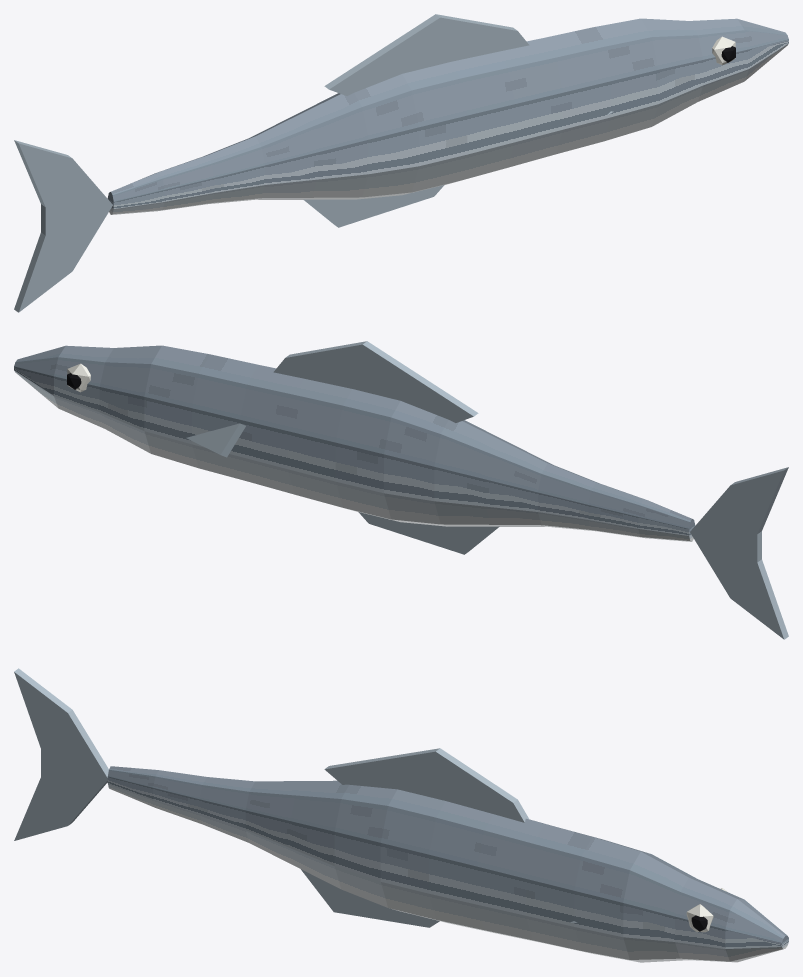
The model's file is bonefish.glb.
The picture shows the model from 3 angles, top to bottom: view 1: azimuth 30°, elevation 25°; view 2: azimuth 150°, elevation 25°; view 3: azimuth 330°, elevation 25°; orthographic projection.
Visible parts, largest first — view 1: fish_bonefish; view 2: fish_bonefish; view 3: fish_bonefish.
Part boxes in pixels (x1,y1,x2,y2): fish_bonefish: (14,14,788,312); fish_bonefish: (14,341,788,639); fish_bonefish: (14,668,788,962).
Bounding box in the file's own units: 1.14 × 0.2725 × 0.1267.
4 materials, 1 textured.
